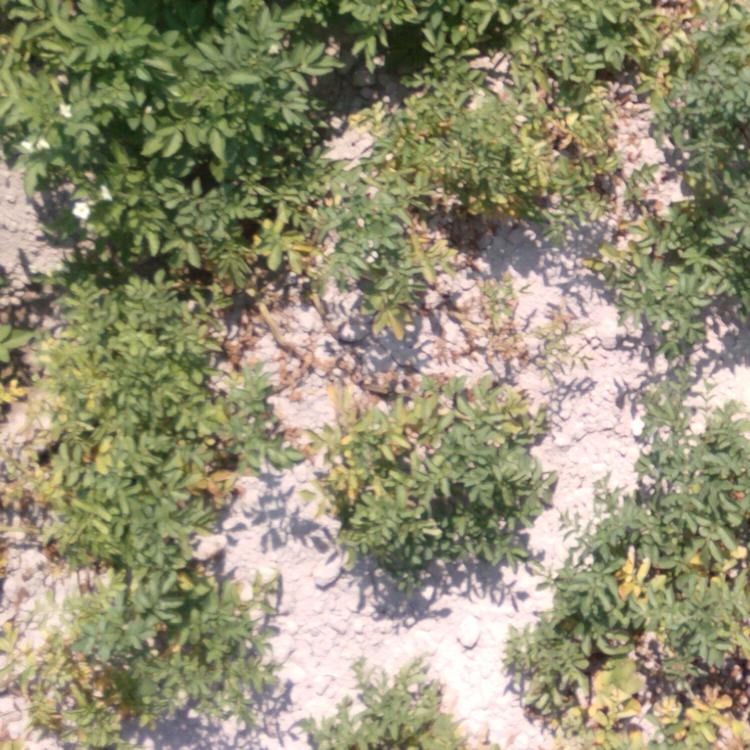healthy: (8, 2, 333, 192), (679, 27, 745, 333), (358, 2, 513, 84)
stressed: (17, 200, 272, 745), (346, 114, 638, 314), (573, 500, 745, 742), (326, 376, 534, 575), (530, 1, 669, 99), (330, 683, 439, 748)
